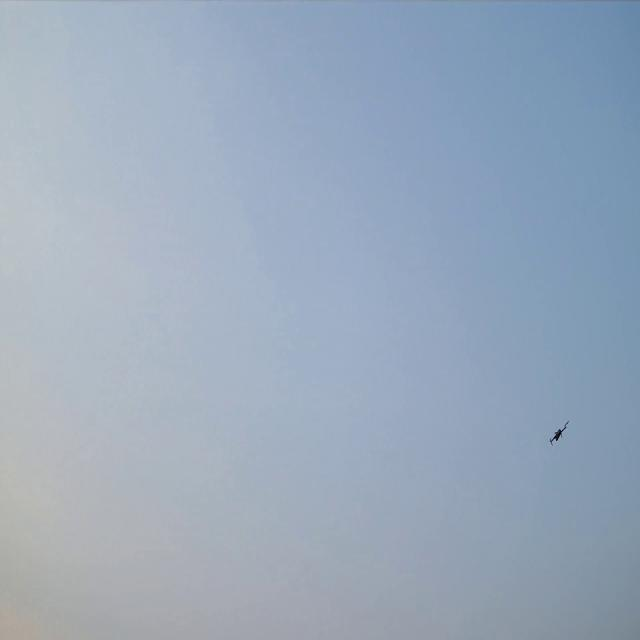UAV: (550, 423, 567, 443)
